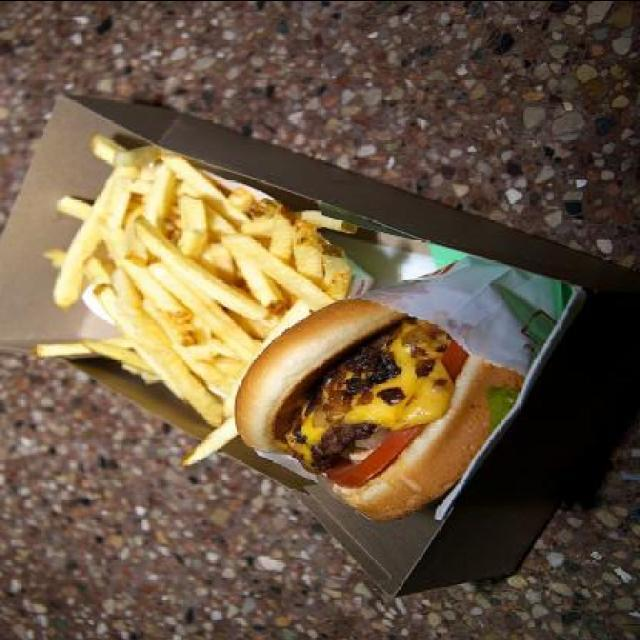French fries: (34, 129, 366, 466)
